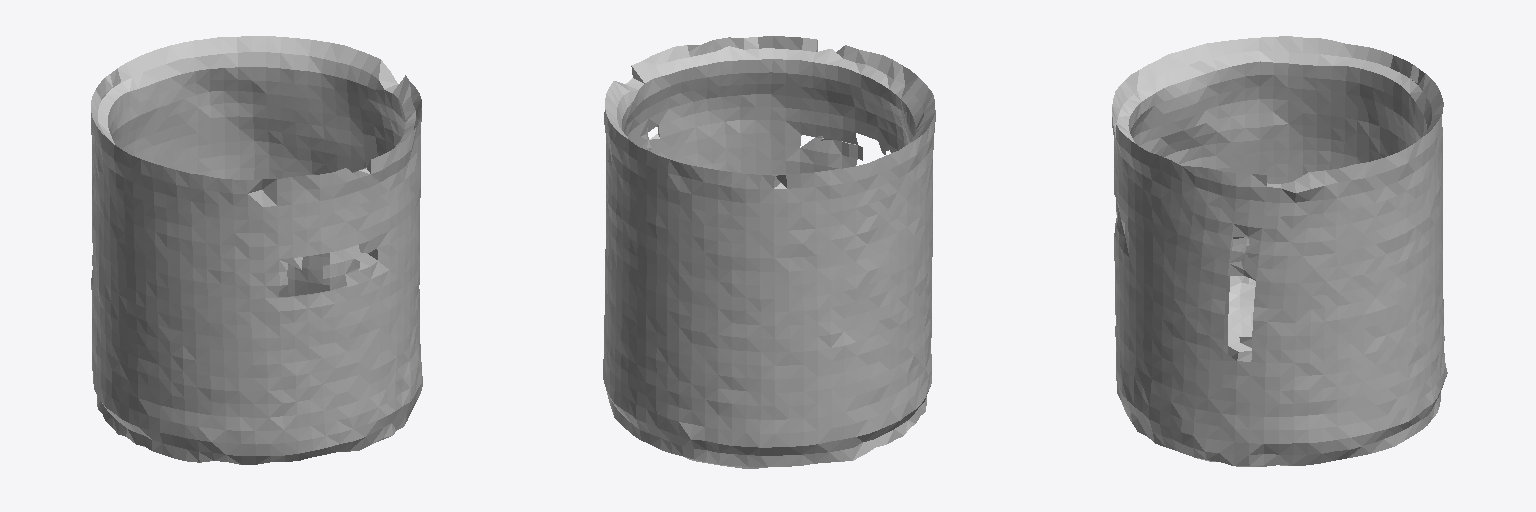
The model's file is majs-low.obj.
The picture shows the model from 3 angles: view 1: azimuth 30°, elevation 25°; view 2: azimuth 150°, elevation 25°; view 3: azimuth 270°, elevation 25°; orthographic projection.
Bounding box in the file's own units: 0.0867 × 0.0872 × 0.0867.